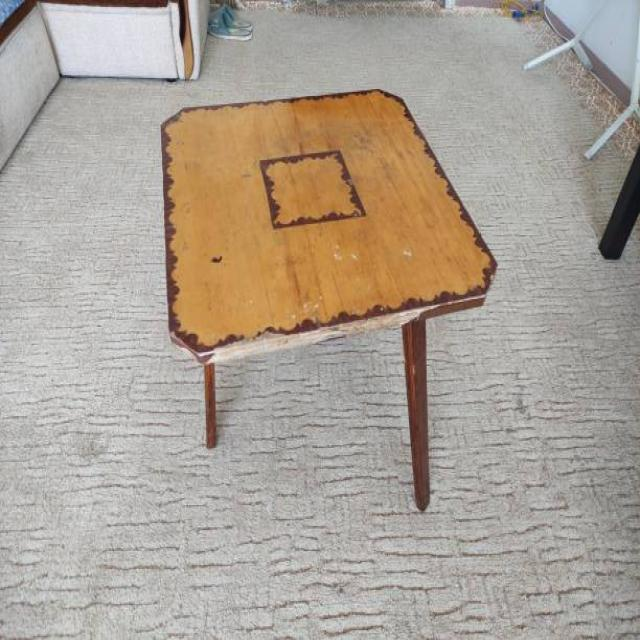table: (160, 86, 498, 511)
